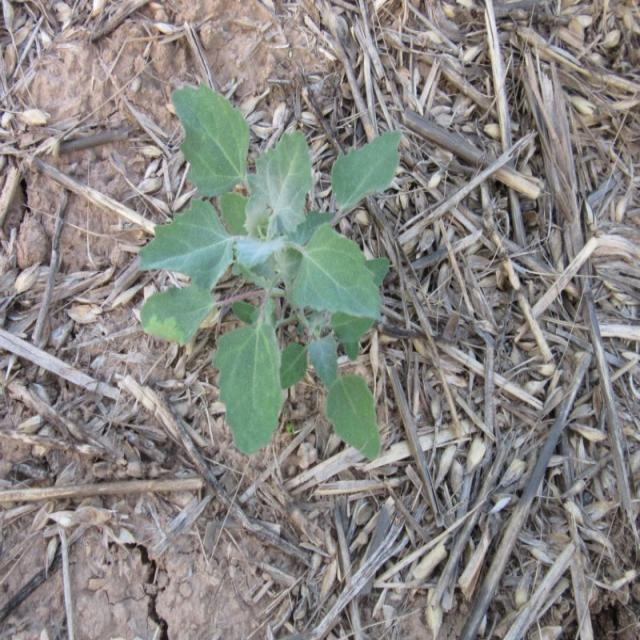ca: (140, 74, 406, 468)
